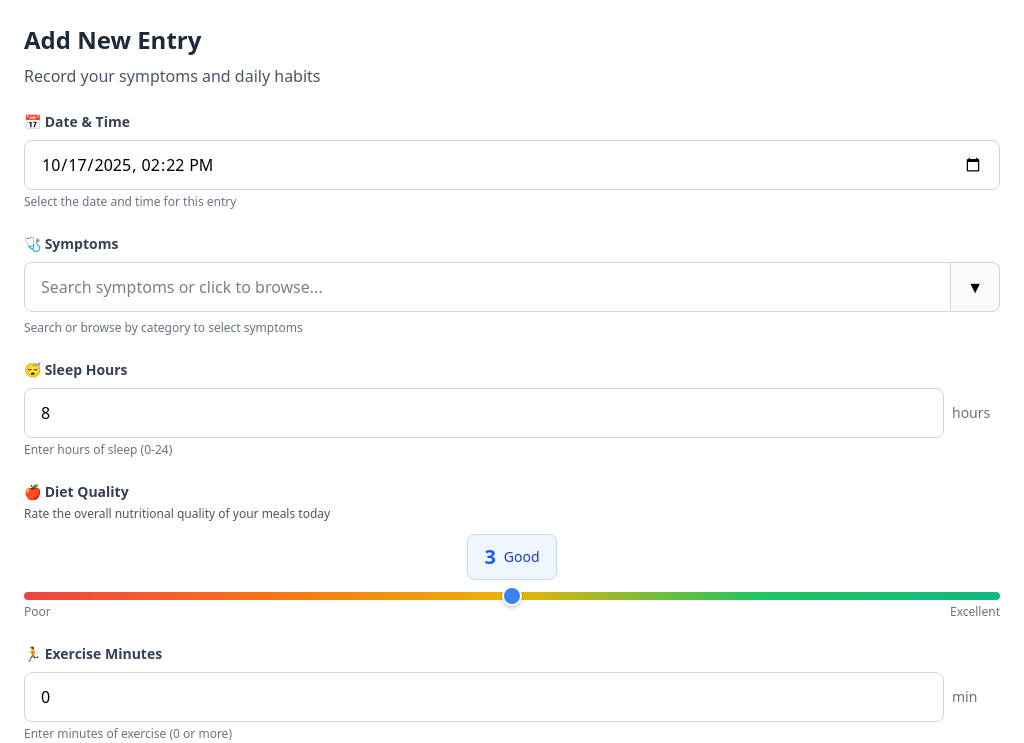
Test: SymptomForm › should select and deselect symptoms
Step 1. Type "headache" into the field with placeholder "Search symptoms or click to browse..." → (488, 287), box [24,262,951,312]
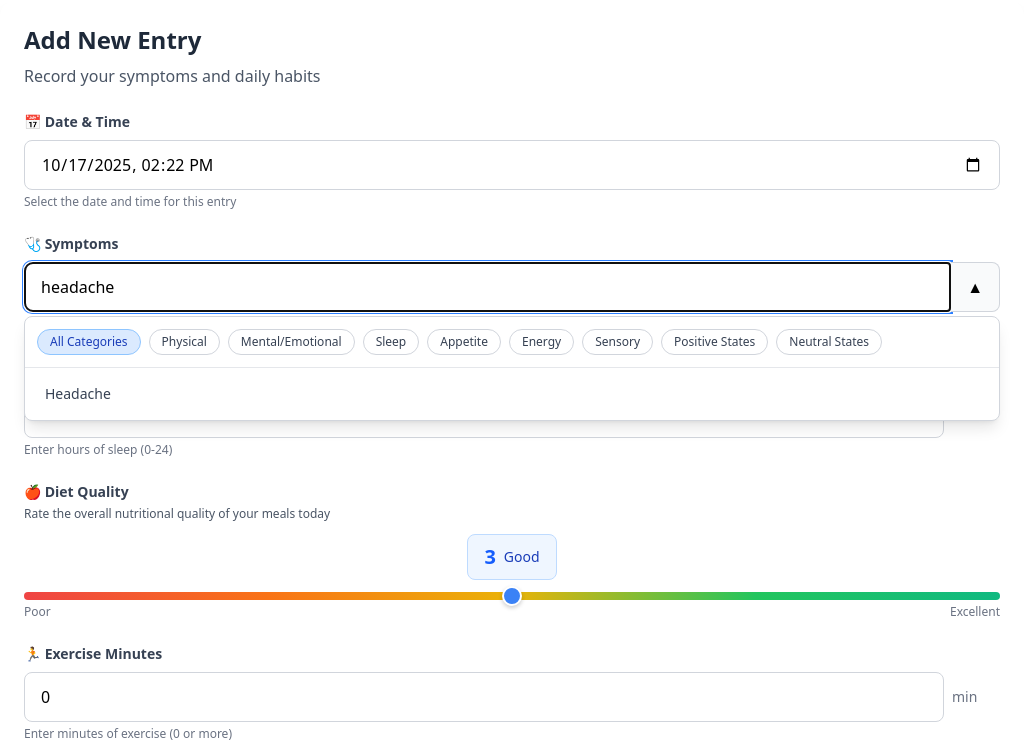
Step 2. Click the button "Headache" → (78, 394), box [33,376,991,412]
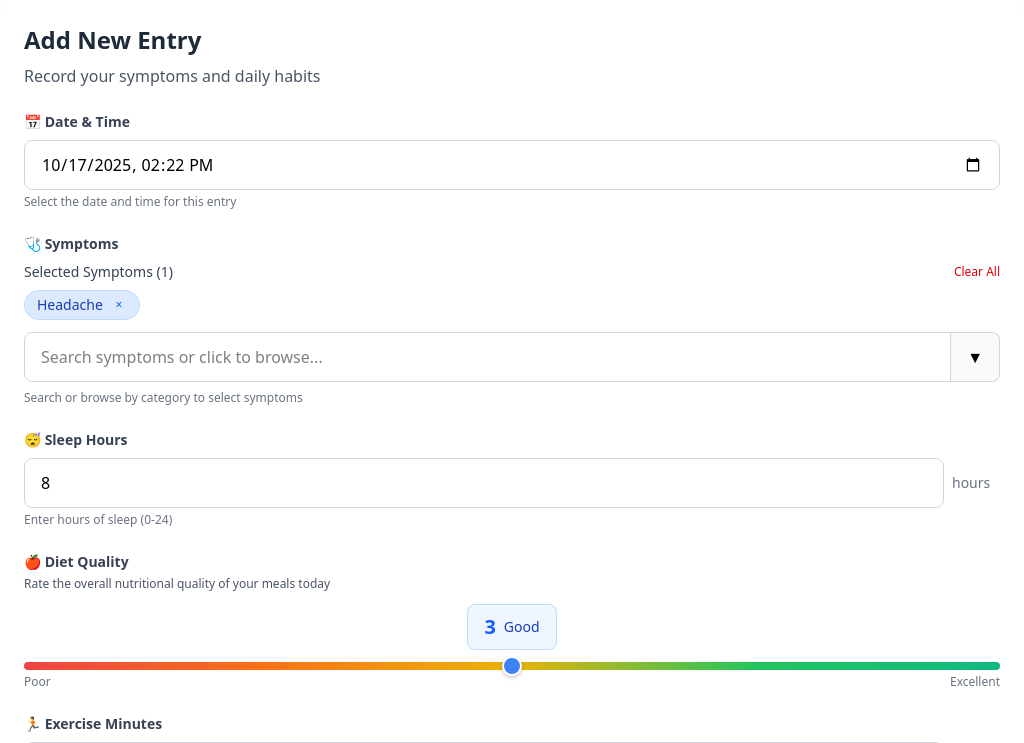
Now the text "Selected Symptoms (1)" is shown, box [24,262,173,282]
Now the text "Headache" is shown, box [37,295,103,314]
Now the button "All Categories" is gone
